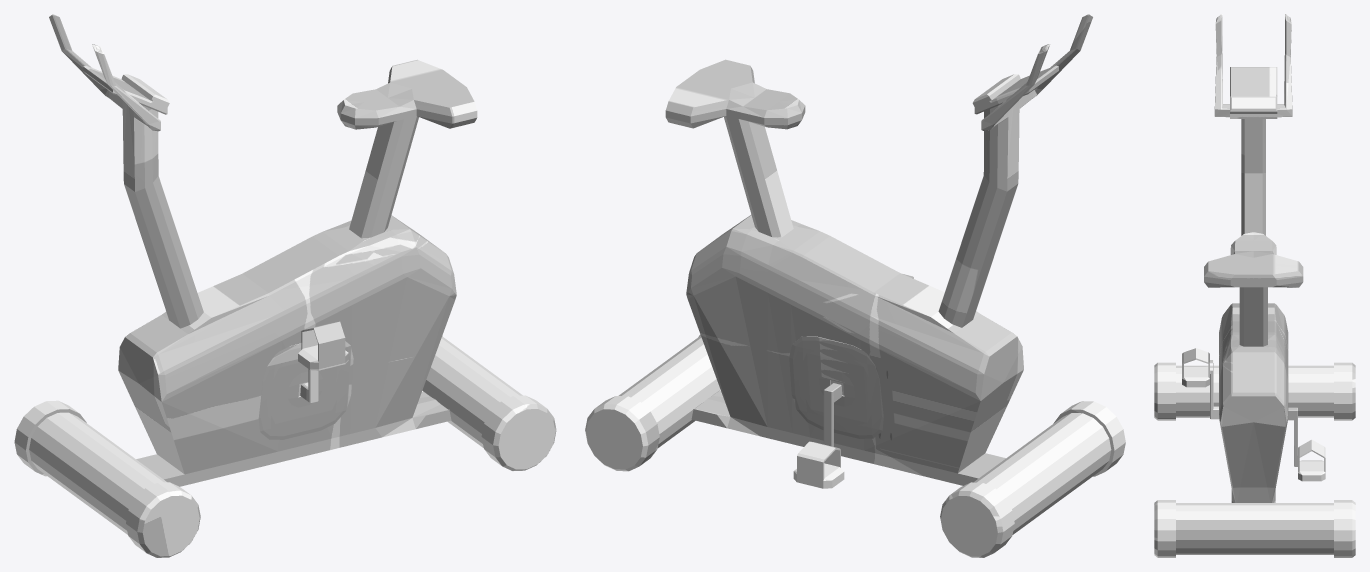
File: Aerobike.fbx
The picture shows the model from 3 angles, left to right: view 1: azimuth 30°, elevation 25°; view 2: azimuth 150°, elevation 25°; view 3: azimuth 270°, elevation 25°; orthographic projection. The views are drawn at different scales.
Visible parts, largest first — view 1: bike; view 2: bike; view 3: bike.
Part boxes in pixels (x1=…): bike: x1=14, y1=14, x2=556, y2=557; bike: x1=585, y1=14, x2=1125, y2=557; bike: x1=1154, y1=14, x2=1355, y2=557.
Size of the model in its own units: 382 by 425 by 199.
